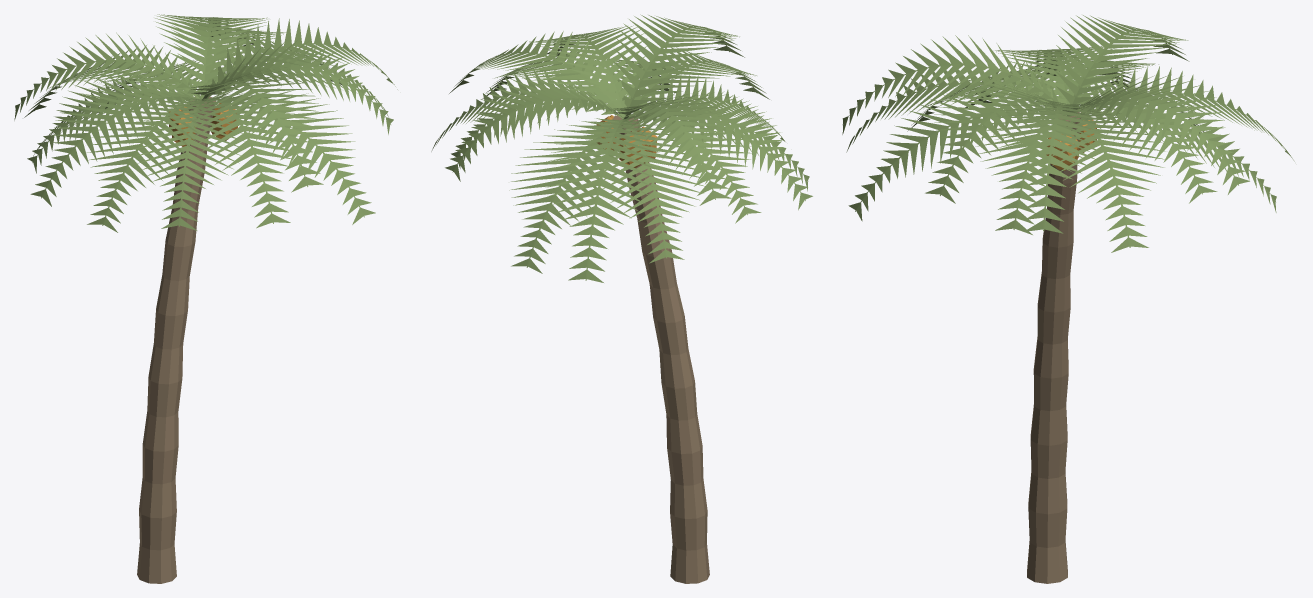
The model's file is SM_DST_Settle_Palm_A.fbx.
3 renders of one model, left to right at view 1: azimuth 30°, elevation 25°; view 2: azimuth 150°, elevation 25°; view 3: azimuth 270°, elevation 25°, orthographic. The views are drawn at different scales.
Parts seen in each view (by area): view 1: SM_DST_Settle_Palm_A; view 2: SM_DST_Settle_Palm_A; view 3: SM_DST_Settle_Palm_A.
Boxes of the visible parts, left/top/right/bottom form: SM_DST_Settle_Palm_A: left=14, top=14, right=397, bottom=583; SM_DST_Settle_Palm_A: left=431, top=14, right=812, bottom=583; SM_DST_Settle_Palm_A: left=842, top=15, right=1294, bottom=583.
Size of the model in its own units: 5.73 by 7.79 by 5.93.
